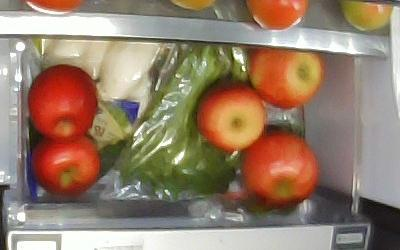apple: (242, 128, 318, 209), (28, 65, 98, 142), (197, 80, 267, 151), (247, 47, 324, 110), (31, 135, 100, 195)
